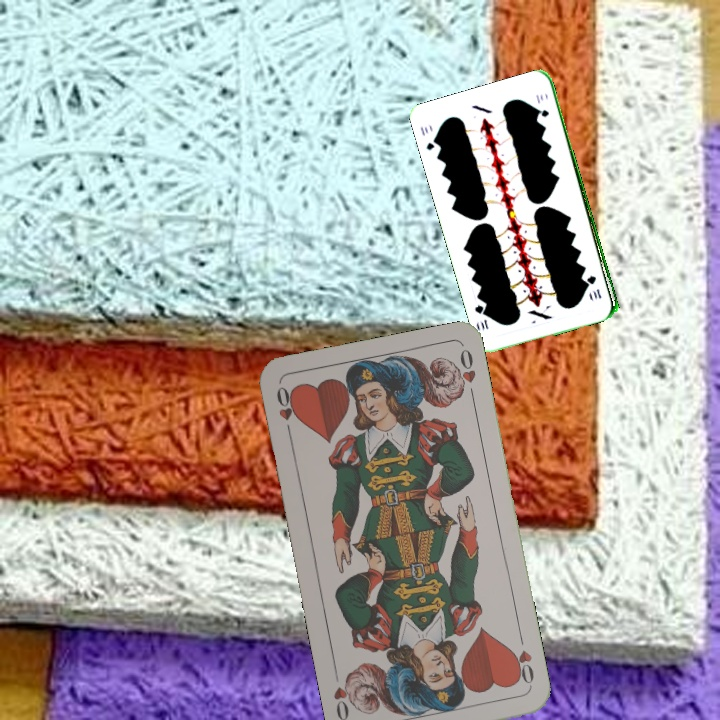G10: (416, 122, 441, 153), (585, 271, 604, 301)
HO: (507, 630, 537, 688), (272, 382, 300, 440)
